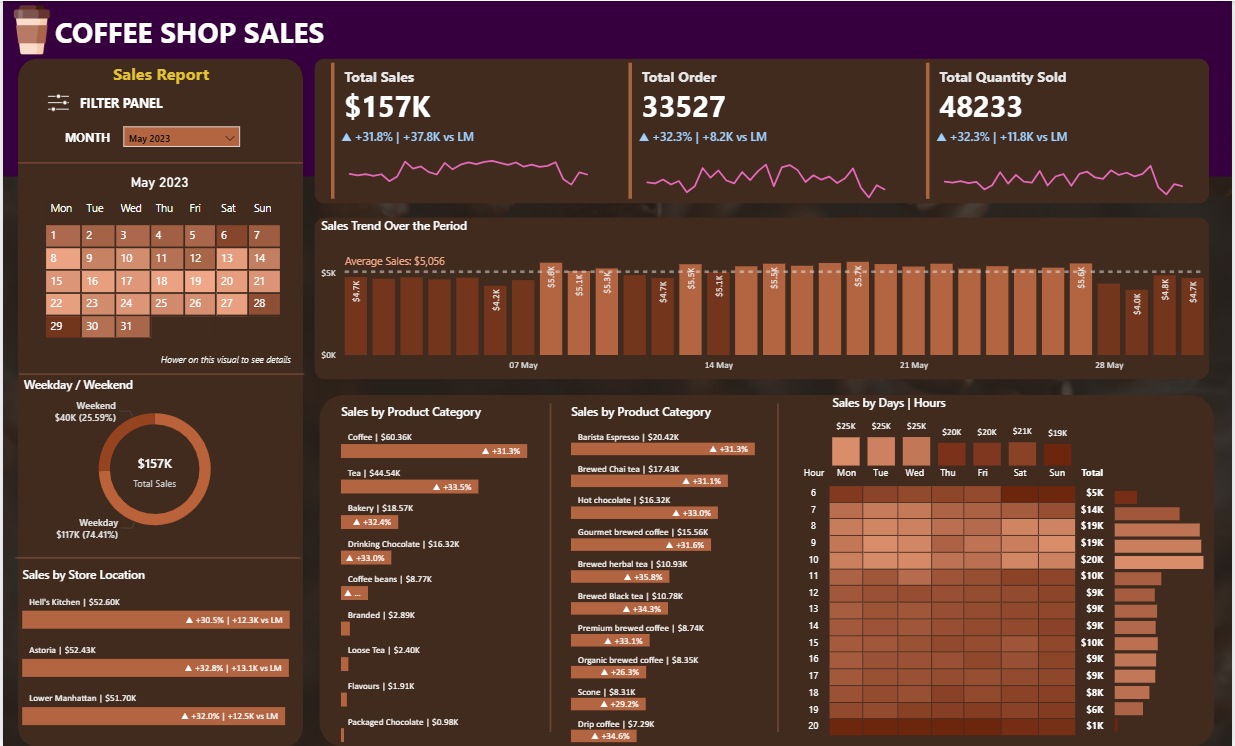

What the dashboard file says about the page in this screenshot:
{"tool":"powerbi","page":{"name":"Page 1","canvas":[1400,850],"ordinal":0},"visuals":[{"type":"shape","box":[0,0,1400.1,200],"z":0},{"type":"shape","box":[17.1,65.5,324.7,784.8],"z":1000},{"type":"shape","box":[354.6,65.5,1019.8,165.2],"z":2000},{"type":"textbox","box":[54.1,8.5,344.7,57],"z":3000},{"type":"cardVisual","fields":{"Data":["Transactions.Total Sales"]},"box":[368.9,65.5,300.5,165.2],"z":4000,"group":"g3"},{"type":"cardVisual","fields":{"Data":["Transactions.Total Order"]},"box":[707.9,65.5,300.5,165.2],"z":4000,"group":"g4"},{"type":"cardVisual","fields":{"Data":["Transactions.Total Quantity Sold"]},"box":[1046.8,65.5,300.5,165.2],"z":4000,"group":"g5"},{"type":"slicer","fields":{"Values":["Date Table.Month Year"]},"box":[132.5,138.2,142.4,47],"z":4000},{"type":"group","id":"g1","title":"Group 1","box":[368.9,65.5,311.9,165.2],"z":5000},{"type":"group","id":"g2","title":"Group 1","box":[707.9,65.5,311.9,165.2],"z":6000},{"type":"lineChart","fields":{"Y":["Transactions.Total Sales"],"Category":["Date Table.Date.Variation.Date Hierarchy.Year","Date Table.Date.Variation.Date Hierarchy.Quarter","Date Table.Date.Variation.Date Hierarchy.Month","Date Table.Date.Variation.Date Hierarchy.Day"]},"box":[380.3,145.3,300.5,85.5],"z":6000,"group":"g3"},{"type":"lineChart","fields":{"Category":["Date Table.Date.Variation.Date Hierarchy.Year","Date Table.Date.Variation.Date Hierarchy.Quarter","Date Table.Date.Variation.Date Hierarchy.Month","Date Table.Date.Variation.Date Hierarchy.Day"],"Y":["Transactions.Total Order"]},"box":[719.3,145.3,300.5,85.5],"z":6000,"group":"g4"},{"type":"lineChart","fields":{"Category":["Date Table.Date.Variation.Date Hierarchy.Year","Date Table.Date.Variation.Date Hierarchy.Quarter","Date Table.Date.Variation.Date Hierarchy.Month","Date Table.Date.Variation.Date Hierarchy.Day"],"Y":["Transactions.Total Quantity Sold"]},"box":[1058.2,145.3,300.5,85.5],"z":6000,"group":"g5"},{"type":"group","id":"g3","title":"Group 2","box":[368.9,65.5,311.9,165.2],"z":6002,"group":"g1"},{"type":"group","id":"g4","title":"Group 2","box":[707.9,65.5,311.9,165.2],"z":6002,"group":"g2"},{"type":"group","id":"g5","title":"Group 2","box":[1046.8,65.5,311.9,165.2],"z":6002,"group":"g6"},{"type":"group","id":"g6","title":"Group 1","box":[1046.8,65.5,311.9,165.2],"z":7000},{"type":"pivotTable","fields":{"Rows":["Date Table.Week Number"],"Columns":["Date Table.Day Name"],"Values":["Min(Date Table.Day Number)"]},"box":[17.1,219.3,324.7,205.1],"z":8000},{"type":"card","fields":{"Values":["Min(Date Table.Month Year)"]},"box":[41.3,141,274.9,133.9],"z":9000},{"type":"card","fields":{"Values":["Transactions.Foot Note"]},"box":[41.3,374.6,425.9,74.1],"z":10000},{"type":"shape","box":[18.5,401.6,324.7,47],"z":11000},{"type":"shape","box":[17.1,160.9,324.7,47],"z":12000},{"type":"donutChart","title":"Weekday / Weekend","fields":{"Category":["Date Table.Weekday / Weekend"],"Y":["Transactions.Total Sales"]},"box":[18.5,427.3,309.1,195.1],"z":13000},{"type":"card","fields":{"Values":["Transactions.Total Sales"]},"box":[91.2,497.1,163.8,76.9],"z":14000},{"type":"shape","box":[14.2,611,324.7,47],"z":15000},{"type":"clusteredBarChart","title":"Sales by Store Location","fields":{"Category":["Transactions.store_location"],"Y":["Transactions.Placeholder","Transactions.Total Sales"]},"box":[17.1,643.8,340.4,189.4],"z":16000},{"type":"shape","box":[354.6,246.4,1019.8,185],"z":17000},{"type":"shape","box":[360.3,448.6,1019.8,401.6],"z":18000},{"type":"columnChart","title":"Sales Trend Over the Period","fields":{"Category":["Transactions.transaction_date"],"Y":["Transactions.Total Sales"]},"box":[357.5,246.4,1019.8,185.2],"z":19000},{"type":"clusteredBarChart","title":"Sales by Product Category","fields":{"Y":["Transactions.Placeholder","Transactions.Total Sales"],"Category":["Transactions.product_category"]},"box":[380.3,458.6,250.7,391.7],"z":20000},{"type":"shape","box":[605.3,458.6,37,374.6],"z":21000},{"type":"clusteredBarChart","title":"Sales by Product Category","fields":{"Y":["Transactions.Placeholder","Transactions.Total Sales"],"Category":["Transactions.product_type"]},"box":[642.3,458.6,250.7,391.7],"z":22000},{"type":"shape","box":[864.5,458.6,37,374.6],"z":23000},{"type":"pivotTable","fields":{"Rows":["Transactions.Hour"],"Columns":["Date Table.Day Name"],"Values":["Transactions.Total Sales"]},"box":[901.6,525.6,370.3,324.7],"z":24000},{"type":"barChart","fields":{"Category":["Transactions.Hour"],"Y":["Transactions.Total Sales"]},"box":[1261.9,545.5,113,292],"z":25000},{"type":"columnChart","title":"Sales by Days | Hours","fields":{"Y":["Transactions.Total Sales"],"Category":["Date Table.Day Name"]},"box":[940,448.6,283.4,86.9],"z":26000},{"type":"textbox","box":[65.5,141,66.9,37],"z":27000},{"type":"textbox","box":[115.4,65.5,132.5,39.9],"z":28000},{"type":"textbox","box":[82.6,101.1,165.2,37],"z":29000},{"type":"image","box":[45,98,35,35],"z":30000},{"type":"image","box":[0,0,65.5,65.5],"z":31000}]}

Visuals, with their boxes in screenshot pixels (x1, y1, x2, y2), scaled from the page's 1400x850 canvas onto the 1235x746 screenshot:
shape: [x1=0, y1=0, x2=1234, y2=176]
shape: [x1=15, y1=57, x2=302, y2=745]
shape: [x1=313, y1=57, x2=1212, y2=202]
textbox: [x1=48, y1=7, x2=352, y2=57]
cardVisual - Transactions.Total Sales: [x1=325, y1=57, x2=591, y2=202]
cardVisual - Transactions.Total Order: [x1=624, y1=57, x2=890, y2=202]
cardVisual - Transactions.Total Quantity Sold: [x1=923, y1=57, x2=1189, y2=202]
slicer - Date Table.Month Year: [x1=117, y1=121, x2=243, y2=163]
"Group 1" group: [x1=325, y1=57, x2=601, y2=202]
"Group 1" group: [x1=624, y1=57, x2=900, y2=202]
lineChart - Transactions.Total Sales x Date Table.Date.Variation.Date Hierarchy.Year: [x1=335, y1=128, x2=601, y2=203]
lineChart - Date Table.Date.Variation.Date Hierarchy.Year x Date Table.Date.Variation.Date Hierarchy.Quarter: [x1=635, y1=128, x2=900, y2=203]
lineChart - Date Table.Date.Variation.Date Hierarchy.Year x Date Table.Date.Variation.Date Hierarchy.Quarter: [x1=933, y1=128, x2=1199, y2=203]
"Group 2" group: [x1=325, y1=57, x2=601, y2=202]
"Group 2" group: [x1=624, y1=57, x2=900, y2=202]
"Group 2" group: [x1=923, y1=57, x2=1199, y2=202]
"Group 1" group: [x1=923, y1=57, x2=1199, y2=202]
pivotTable - Date Table.Week Number x Date Table.Day Name: [x1=15, y1=192, x2=302, y2=372]
card - Min(Date Table.Month Year): [x1=36, y1=124, x2=279, y2=241]
card - Transactions.Foot Note: [x1=36, y1=329, x2=412, y2=394]
shape: [x1=16, y1=352, x2=303, y2=394]
shape: [x1=15, y1=141, x2=302, y2=182]
"Weekday / Weekend" donutChart: [x1=16, y1=375, x2=289, y2=546]
card - Transactions.Total Sales: [x1=80, y1=436, x2=225, y2=504]
shape: [x1=13, y1=536, x2=299, y2=577]
"Sales by Store Location" clusteredBarChart: [x1=15, y1=565, x2=315, y2=731]
shape: [x1=313, y1=216, x2=1212, y2=379]
shape: [x1=318, y1=394, x2=1217, y2=745]
"Sales Trend Over the Period" columnChart: [x1=315, y1=216, x2=1215, y2=379]
"Sales by Product Category" clusteredBarChart: [x1=335, y1=402, x2=557, y2=745]
shape: [x1=534, y1=402, x2=567, y2=731]
"Sales by Product Category" clusteredBarChart: [x1=567, y1=402, x2=788, y2=745]
shape: [x1=763, y1=402, x2=795, y2=731]
pivotTable - Transactions.Hour x Date Table.Day Name: [x1=795, y1=461, x2=1122, y2=745]
barChart - Transactions.Hour x Transactions.Total Sales: [x1=1113, y1=479, x2=1213, y2=735]
"Sales by Days | Hours" columnChart: [x1=829, y1=394, x2=1079, y2=470]
textbox: [x1=58, y1=124, x2=117, y2=156]
textbox: [x1=102, y1=57, x2=219, y2=93]
textbox: [x1=73, y1=89, x2=219, y2=121]
image: [x1=40, y1=86, x2=71, y2=117]
image: [x1=0, y1=0, x2=58, y2=57]
